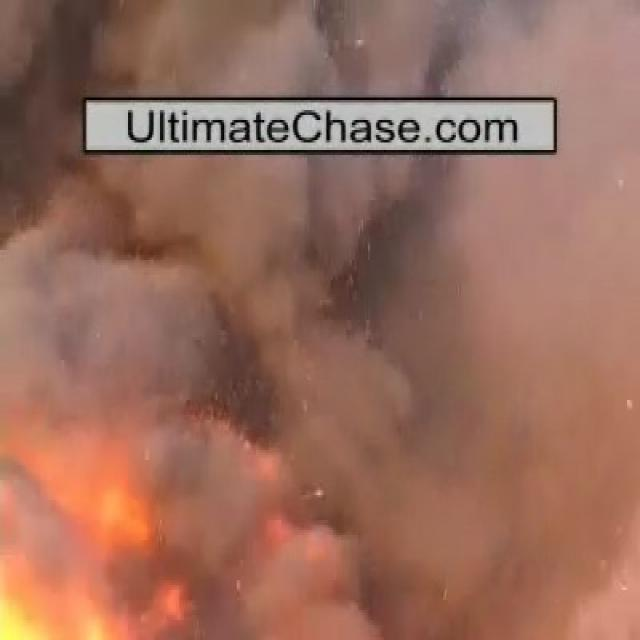smoke: (33, 170, 574, 504), (65, 0, 567, 92)
